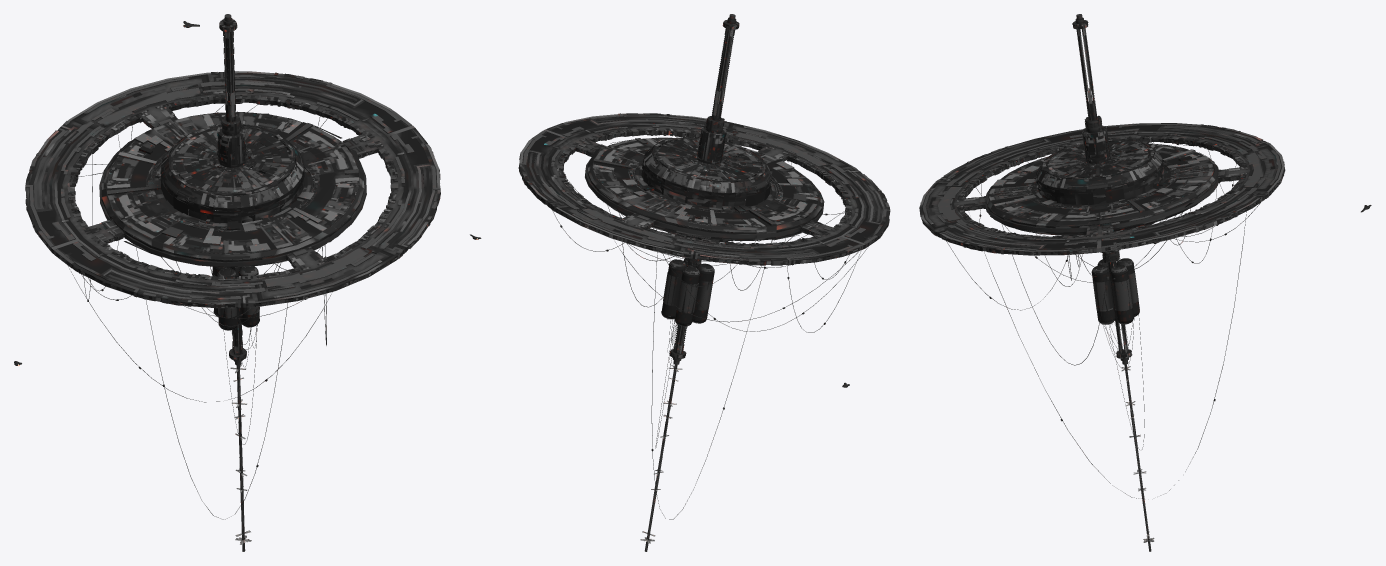
The model's file is space_station.glb.
The picture shows the model from 3 angles, left to right: view 1: azimuth 30°, elevation 25°; view 2: azimuth 150°, elevation 25°; view 3: azimuth 270°, elevation 25°; orthographic projection. The views are drawn at different scales.
Visible parts, largest first — view 1: spacestation.016_low, spacestation.031_low, spacestation.023_low, spacestation.002_low, spacestation.010_low, spacestation.015_low, spacestation_low, spacestation.003_low, spacestation.022_low, spacestation.008_low, spacestation.001_low, spacestation.012_low (+12 smaller); view 2: spacestation.016_low, spacestation.023_low, spacestation.031_low, spacestation.002_low, spacestation_low, spacestation.015_low, spacestation.020_low, spacestation.010_low, spacestation.001_low, spacestation.019_low, spacestation.017_low, spacestation.022_low (+11 smaller); view 3: spacestation.016_low, spacestation.023_low, spacestation.031_low, spacestation.002_low, spacestation_low, spacestation.020_low, spacestation.015_low, spacestation.010_low, spacestation.017_low, spacestation.001_low, spacestation.003_low, spacestation.022_low (+12 smaller).
Boxes of the visible parts, x1,y1,x2,y2 form: spacestation.016_low: (25, 71, 440, 308); spacestation.031_low: (28, 72, 437, 307); spacestation.023_low: (25, 72, 440, 307); spacestation.002_low: (101, 111, 364, 268); spacestation.010_low: (112, 119, 352, 245); spacestation.015_low: (169, 127, 295, 211); spacestation_low: (101, 113, 364, 267); spacestation.003_low: (106, 112, 358, 265); spacestation.022_low: (107, 123, 358, 253); spacestation.008_low: (107, 117, 357, 263); spacestation.001_low: (102, 112, 363, 267); spacestation.012_low: (173, 127, 291, 214); spacestation.016_low: (519, 113, 890, 264); spacestation.023_low: (518, 113, 890, 265); spacestation.031_low: (519, 114, 887, 264); spacestation.002_low: (587, 136, 822, 241); spacestation_low: (587, 137, 822, 240); spacestation.015_low: (653, 137, 765, 182); spacestation.020_low: (661, 259, 714, 326); spacestation.010_low: (599, 140, 812, 222); spacestation.001_low: (588, 138, 822, 240); spacestation.019_low: (552, 161, 868, 519); spacestation.017_low: (669, 20, 739, 359); spacestation.022_low: (593, 138, 805, 226); spacestation.016_low: (919, 123, 1285, 255); spacestation.023_low: (920, 123, 1284, 254); spacestation.031_low: (922, 125, 1284, 255); spacestation.002_low: (985, 139, 1218, 235); spacestation_low: (988, 142, 1215, 234); spacestation.020_low: (1091, 258, 1139, 324); spacestation.015_low: (1042, 139, 1154, 179); spacestation.010_low: (988, 164, 1213, 219); spacestation.017_low: (1072, 20, 1132, 358); spacestation.001_low: (986, 141, 1217, 233); spacestation.003_low: (993, 143, 1207, 234); spacestation.022_low: (992, 141, 1209, 221).
Size of the model in its own units: 14.47 by 21.7 by 17.34.
Materials: 6 (4 with a texture image).
